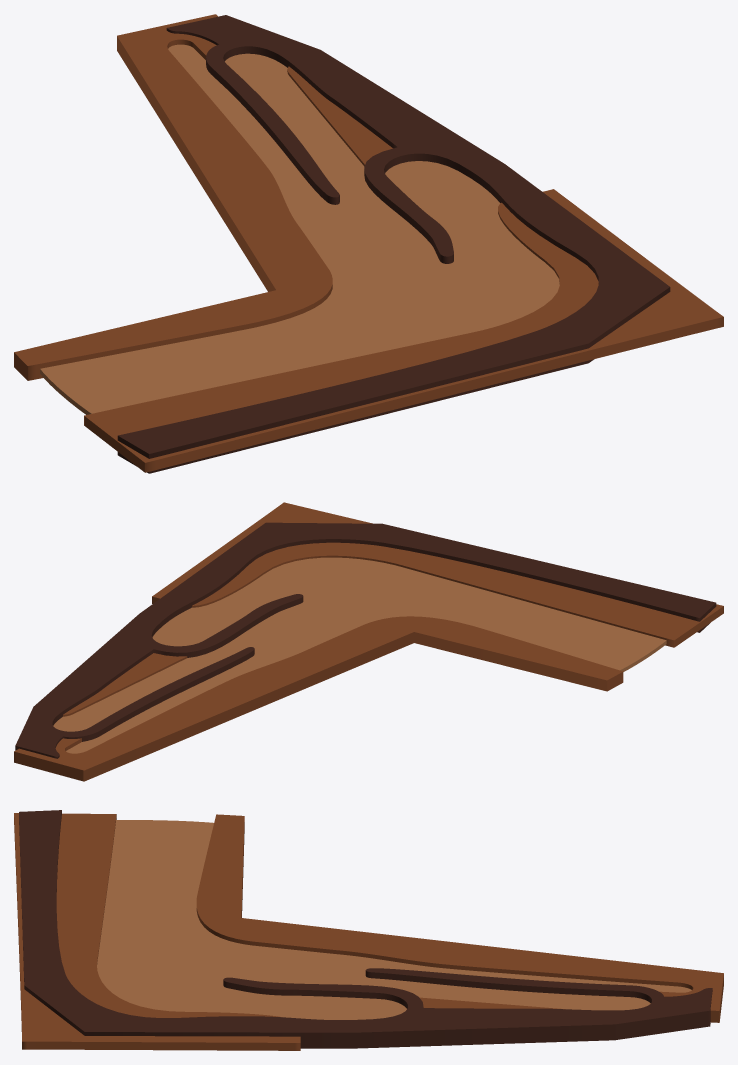
Rendered from emoji_u1faf8_1f3fe.glb.
3 views of the same model, one above another, from view 1: azimuth 30°, elevation 25°; view 2: azimuth 150°, elevation 25°; view 3: azimuth 270°, elevation 25° (orthographic). The views are drawn at different scales.
Parts seen in each view (by area): view 1: emoji_u1faf8_1f3fe; view 2: emoji_u1faf8_1f3fe; view 3: emoji_u1faf8_1f3fe.
Boxes of the visible parts, x1,y1,x2,y2 form: emoji_u1faf8_1f3fe: (14, 14, 723, 473); emoji_u1faf8_1f3fe: (14, 502, 723, 781); emoji_u1faf8_1f3fe: (14, 810, 723, 1050).
Bounding box in the file's own units: 0.0248 × 0.0008 × 0.0324.
